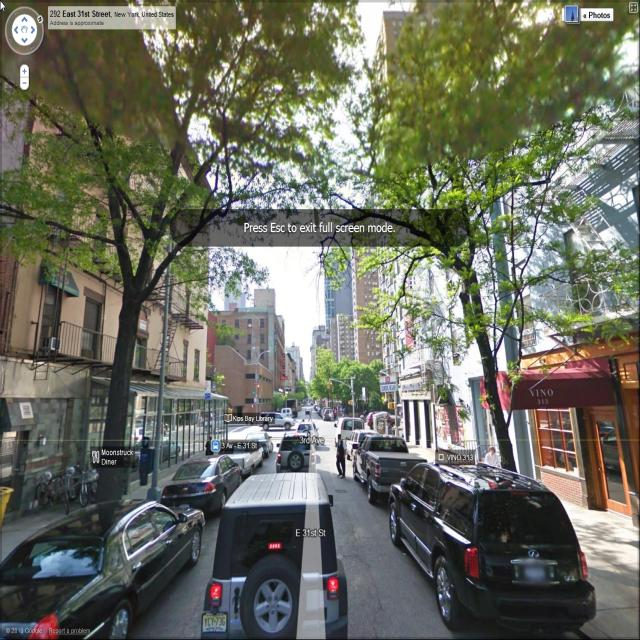b_1: (216, 290, 294, 423)
b_2: (5, 1, 206, 404), (512, 37, 640, 460), (395, 164, 511, 486), (364, 13, 515, 162), (352, 192, 406, 443), (304, 237, 366, 398)
